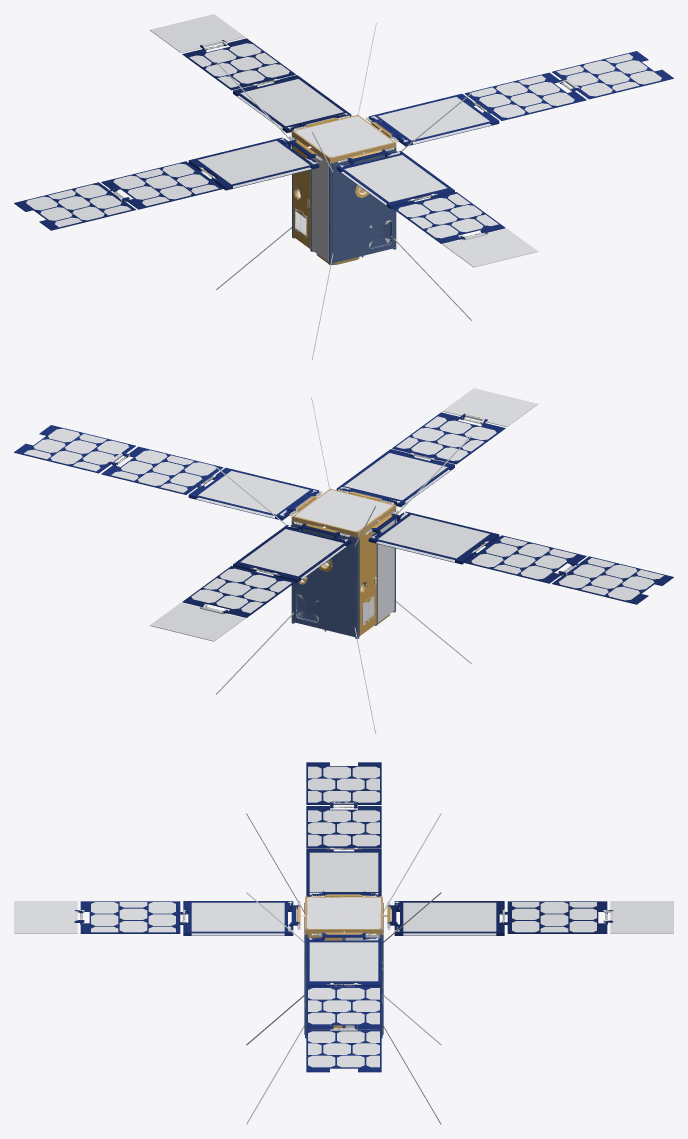
Rendered from lumid-cubesat-mobile.glb.
3 renders of one model, top to bottom at view 1: azimuth 30°, elevation 25°; view 2: azimuth 150°, elevation 25°; view 3: azimuth 270°, elevation 25°, orthographic.
Parts seen in each view (by area): view 1: fastenerNX, fastenerPX, fastenerPZ, fastenerNZ, core, solarNX, solarPX, fastenerTop, solarPZ, solarNZ, wallNX, topPlate (+1 smaller); view 2: fastenerNX, fastenerPX, fastenerNZ, fastenerPZ, core, solarNX, solarPX, fastenerTop, solarNZ, solarPZ, wallNX, topPlate (+1 smaller); view 3: fastenerPX, fastenerNX, fastenerNZ, fastenerPZ, fastenerTop, solarPX, solarNX, solarPZ, solarNZ, topPlate, core, fastenerBottom.
Part boxes in pixels (x1,y1,x2,y2): fastenerNX: (26, 140, 328, 261); fastenerPX: (378, 53, 661, 144); fastenerPZ: (341, 155, 538, 267); fastenerNZ: (150, 14, 343, 129); core: (292, 136, 396, 264); solarNX: (14, 137, 319, 230); solarPX: (368, 51, 673, 146); fastenerTop: (216, 23, 471, 172); solarPZ: (336, 149, 505, 243); solarNZ: (182, 38, 351, 132); wallNX: (293, 137, 315, 248); topPlate: (291, 115, 396, 163); fastenerNX: (360, 511, 663, 625); fastenerPX: (24, 428, 309, 518); fastenerNZ: (149, 529, 346, 641); fastenerPZ: (344, 388, 537, 503); core: (291, 510, 395, 638); solarNX: (368, 511, 673, 604); solarPX: (14, 425, 319, 520); fastenerTop: (215, 397, 471, 546); solarNZ: (182, 523, 351, 617); solarPZ: (336, 412, 505, 506); wallNX: (359, 514, 391, 636); topPlate: (291, 489, 396, 537); fastenerPX: (308, 934, 379, 1067); fastenerNX: (308, 766, 379, 891); fastenerNZ: (382, 901, 673, 1002); fastenerPZ: (14, 901, 284, 935); fastenerTop: (246, 813, 441, 942); solarPX: (306, 933, 381, 1072); solarNX: (306, 762, 381, 896); solarPZ: (75, 901, 299, 935); solarNZ: (388, 901, 612, 935); topPlate: (305, 896, 382, 934); core: (304, 902, 383, 1038); fastenerBottom: (246, 995, 441, 1124).
Bounding box in the file's own units: 2.13 × 0.7456 × 1.92.
